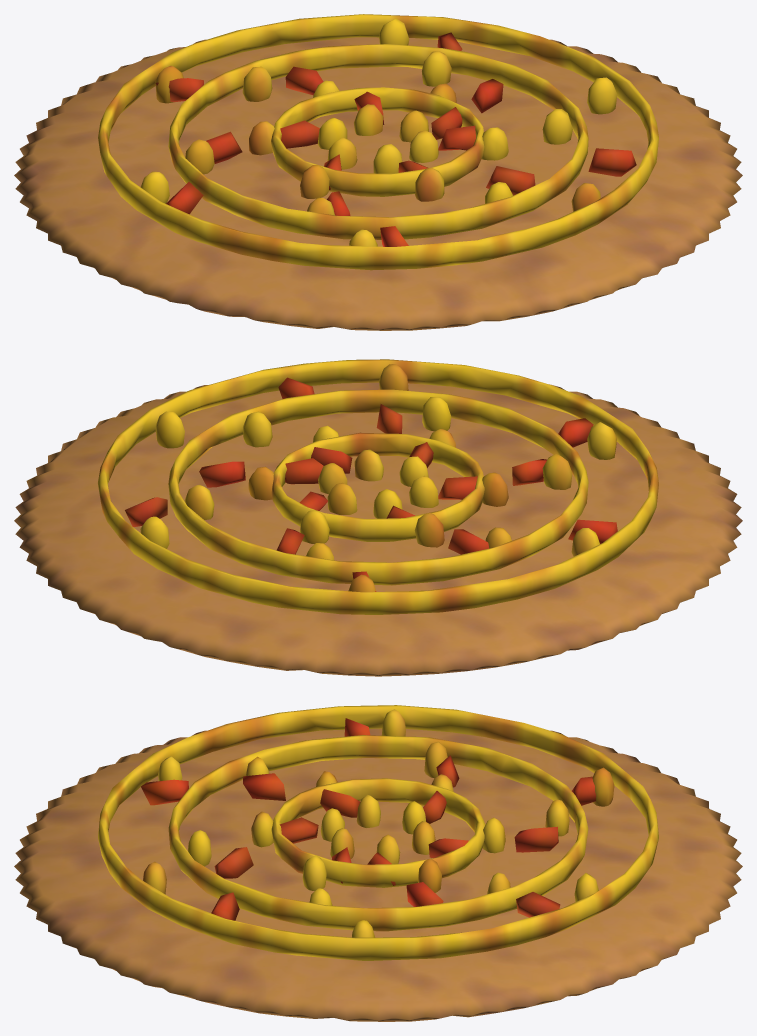
Rendered from peri-peri-fiesta-pizza-ultralight.glb.
3 renders of one model, top to bottom at view 1: azimuth 30°, elevation 25°; view 2: azimuth 150°, elevation 25°; view 3: azimuth 270°, elevation 25°, orthographic.
Parts seen in each view (by area): view 1: Mesh_Artisan_Pizza_Crust, Mesh_Fiesta_Corn_Chili_And_Aioli, Mesh_Peri_Peri_Chicken_Strips; view 2: Mesh_Artisan_Pizza_Crust, Mesh_Fiesta_Corn_Chili_And_Aioli, Mesh_Peri_Peri_Chicken_Strips; view 3: Mesh_Artisan_Pizza_Crust, Mesh_Fiesta_Corn_Chili_And_Aioli, Mesh_Peri_Peri_Chicken_Strips.
Part boxes in pixels (x1,y1,x2,y2): Mesh_Artisan_Pizza_Crust: (14,37,742,330); Mesh_Fiesta_Corn_Chili_And_Aioli: (98,14,658,270); Mesh_Peri_Peri_Chicken_Strips: (155,32,636,246); Mesh_Artisan_Pizza_Crust: (14,382,742,676); Mesh_Fiesta_Corn_Chili_And_Aioli: (98,359,658,614); Mesh_Peri_Peri_Chicken_Strips: (125,377,617,591); Mesh_Artisan_Pizza_Crust: (14,728,742,1021); Mesh_Fiesta_Corn_Chili_And_Aioli: (98,705,658,960); Mesh_Peri_Peri_Chicken_Strips: (141,718,596,920).
Bounding box in the file's own units: 2.4 × 0.2804 × 2.4.
Materials: 4 (4 with a texture image).
